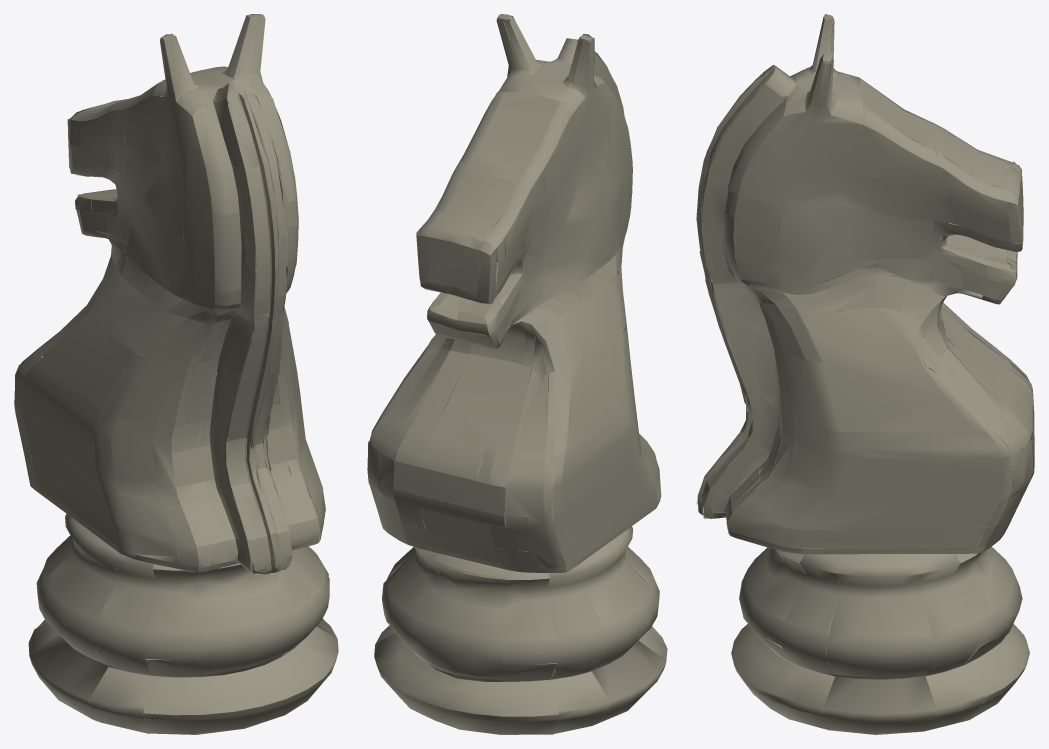
Rendered from Knight.FBX.
3 renders of one model, left to right at view 1: azimuth 30°, elevation 25°; view 2: azimuth 150°, elevation 25°; view 3: azimuth 270°, elevation 25°, orthographic. The views are drawn at different scales.
Parts seen in each view (by area): view 1: Knight; view 2: Knight; view 3: Knight.
Boxes of the visible parts, x1=… form: Knight: x1=14, y1=14, x2=338, y2=734; Knight: x1=367, y1=14, x2=667, y2=734; Knight: x1=696, y1=14, x2=1034, y2=734.
Size of the model in its own units: 127 by 304 by 144.
